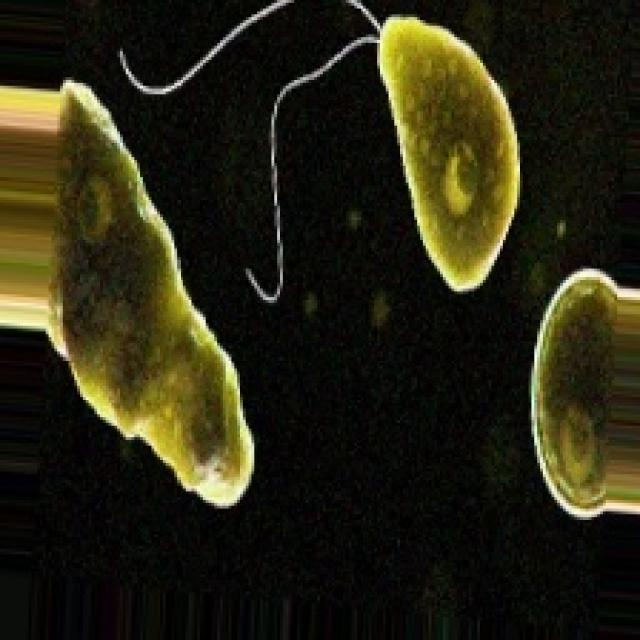Amoeba: (58, 38, 257, 533), (262, 7, 555, 305)
